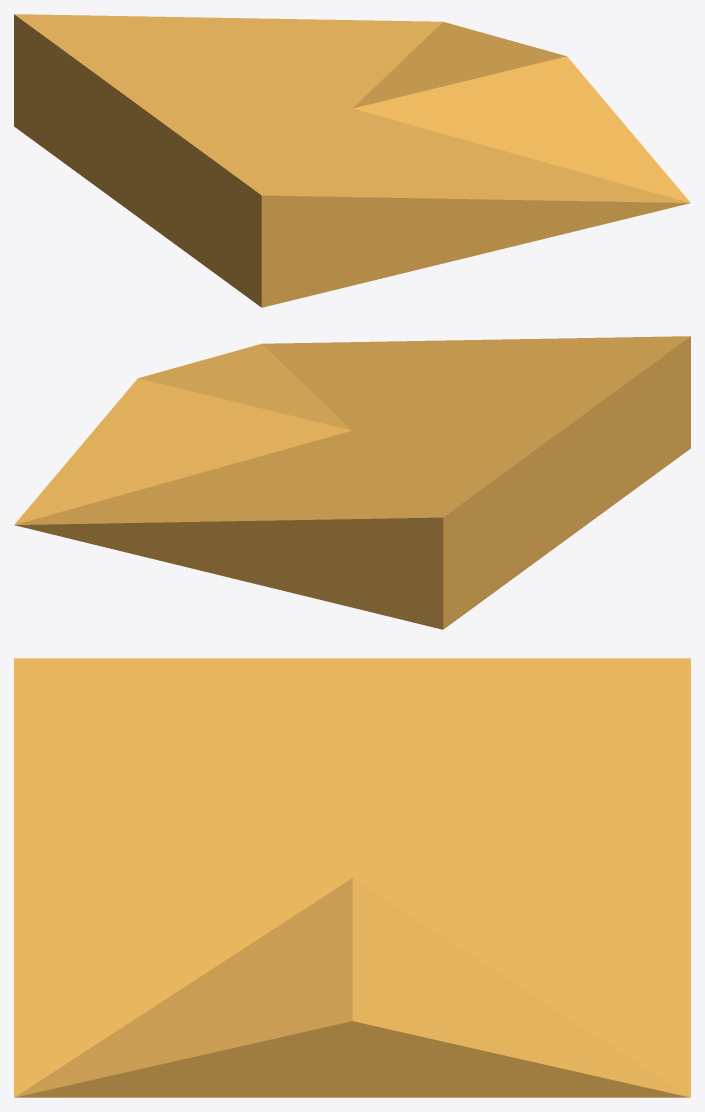
The model's file is Roof-Shallow-4x4x1-Gable-Decorative-Straight.FBX.
The picture shows the model from 3 angles, top to bottom: view 1: azimuth 30°, elevation 25°; view 2: azimuth 150°, elevation 25°; view 3: azimuth 270°, elevation 25°; orthographic projection. The views are drawn at different scales.
Parts seen in each view (by area): view 1: Roof-Shallow-4x4x1-Gable-Decorative-Straight; view 2: Roof-Shallow-4x4x1-Gable-Decorative-Straight; view 3: Roof-Shallow-4x4x1-Gable-Decorative-Straight.
Part boxes in pixels (box(x1,y1,x2,y2)): Roof-Shallow-4x4x1-Gable-Decorative-Straight: box(14, 14, 690, 307); Roof-Shallow-4x4x1-Gable-Decorative-Straight: box(14, 336, 690, 629); Roof-Shallow-4x4x1-Gable-Decorative-Straight: box(14, 658, 690, 1097).
Bounding box in the file's own units: 40 × 40 × 10.
